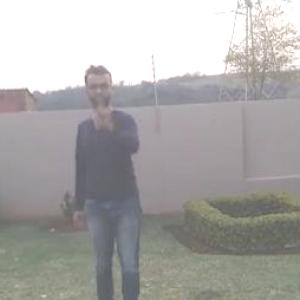land_hand: (94, 91, 120, 136)
